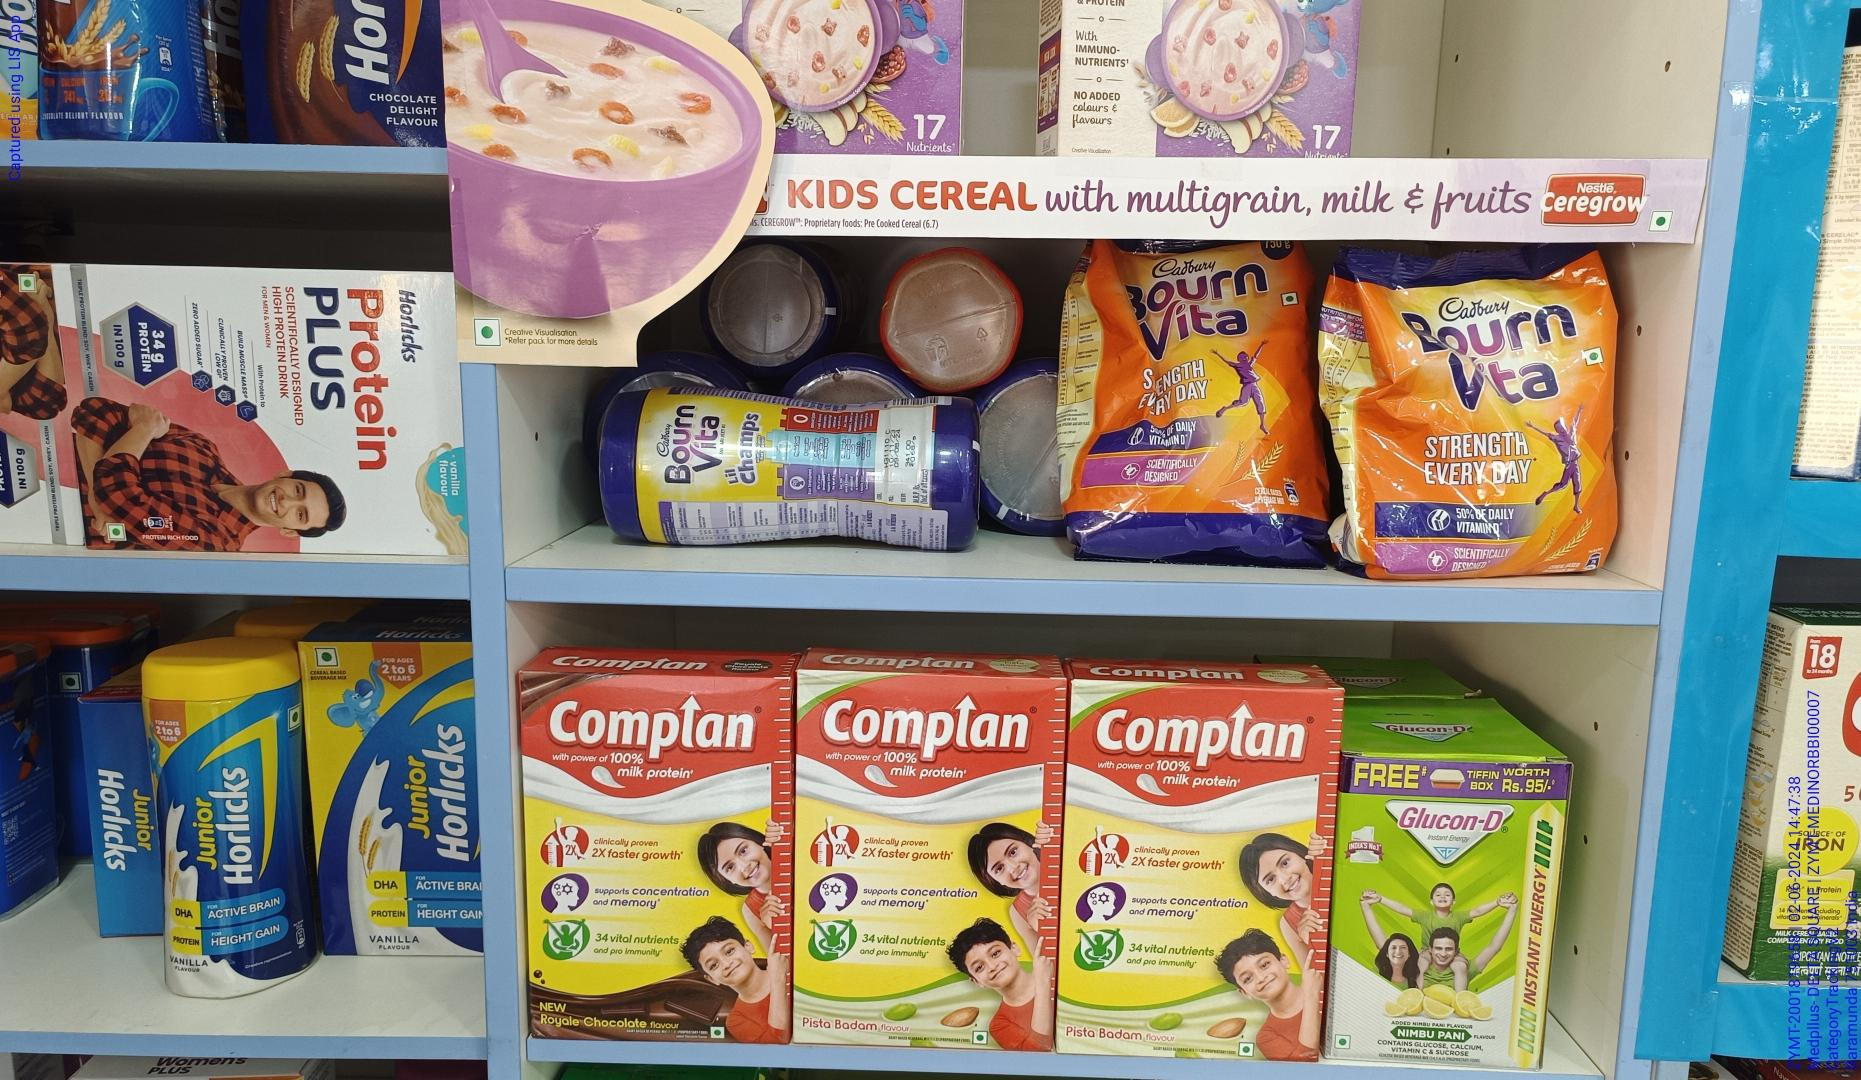HORLICKS_JUNIOR_VANILLA_500_GM_JAR: (153, 649, 308, 1003)
